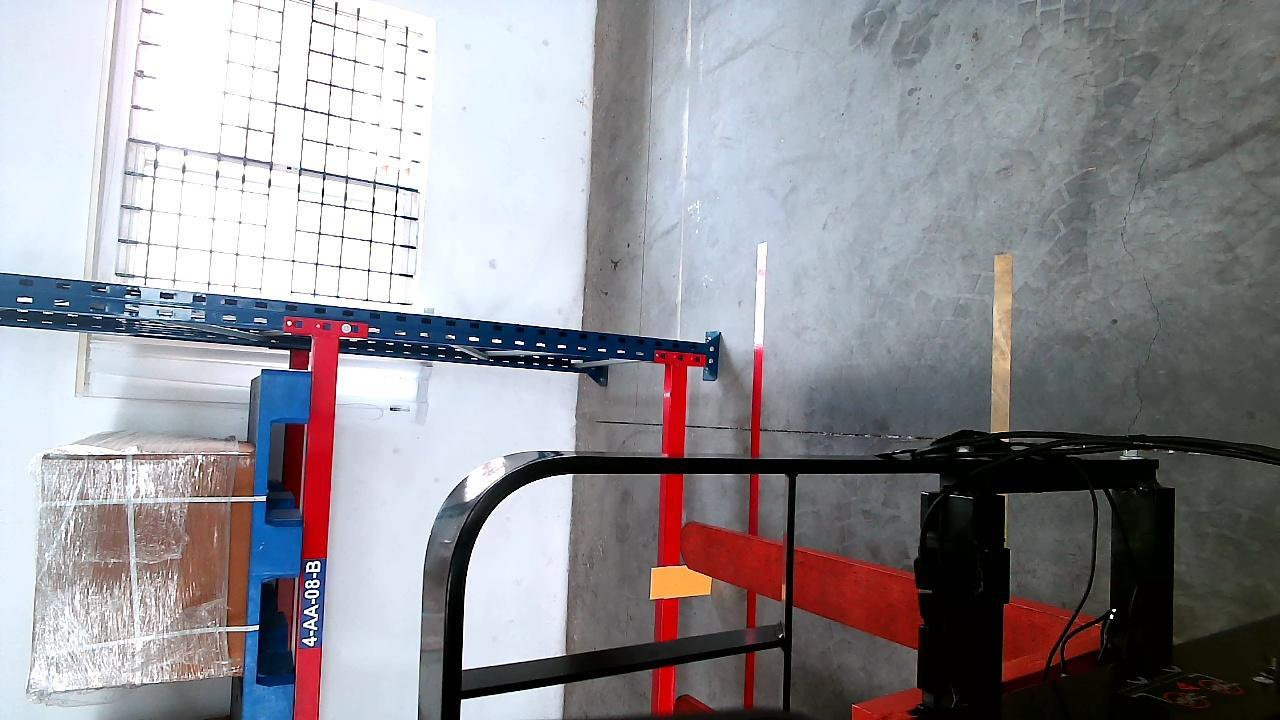red_line: (742, 244, 770, 706)
yellow_line: (990, 250, 1010, 441)
